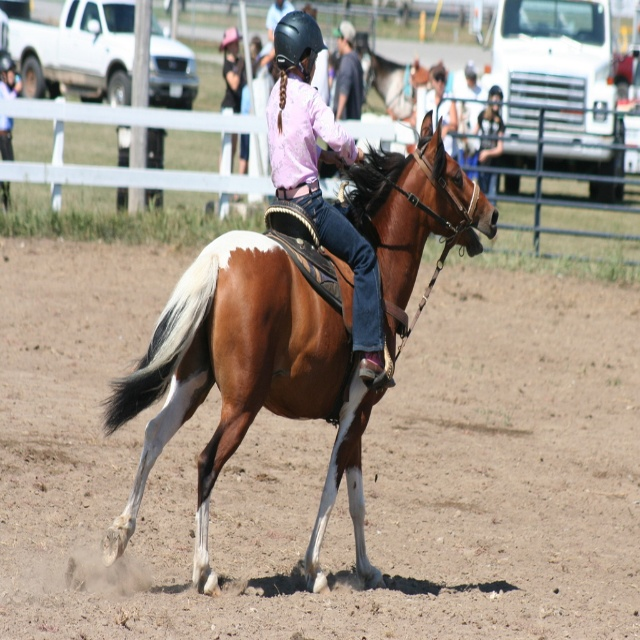Horse: (94, 109, 500, 595)
